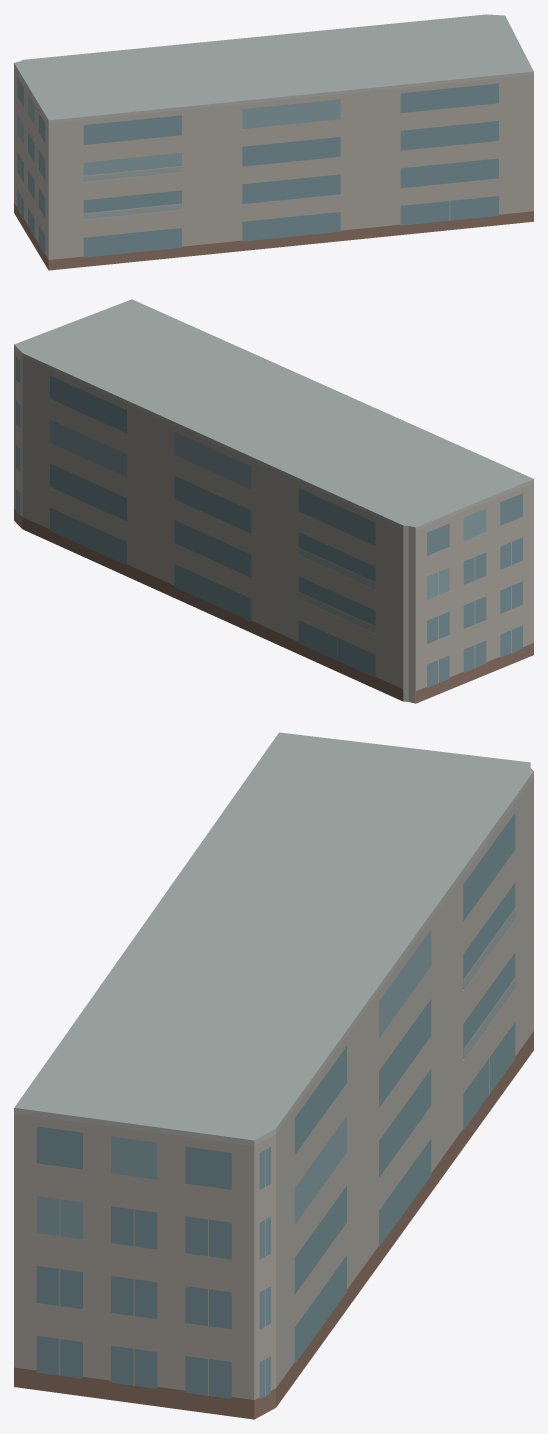
File: survey-upis-32986821.glb
3 renders of one model, top to bottom at view 1: azimuth 30°, elevation 25°; view 2: azimuth 150°, elevation 25°; view 3: azimuth 270°, elevation 25°, orthographic. The views are drawn at different scales.
Visible parts, largest first — view 1: survey-upis-32986821.tmp; view 2: survey-upis-32986821.tmp; view 3: survey-upis-32986821.tmp.
Boxes of the visible parts, <box> form: survey-upis-32986821.tmp: <box>14,14,533,270</box>; survey-upis-32986821.tmp: <box>14,299,533,703</box>; survey-upis-32986821.tmp: <box>14,732,533,1419</box>.
Size of the model in its own units: 37.32 by 11.9 by 20.1.
